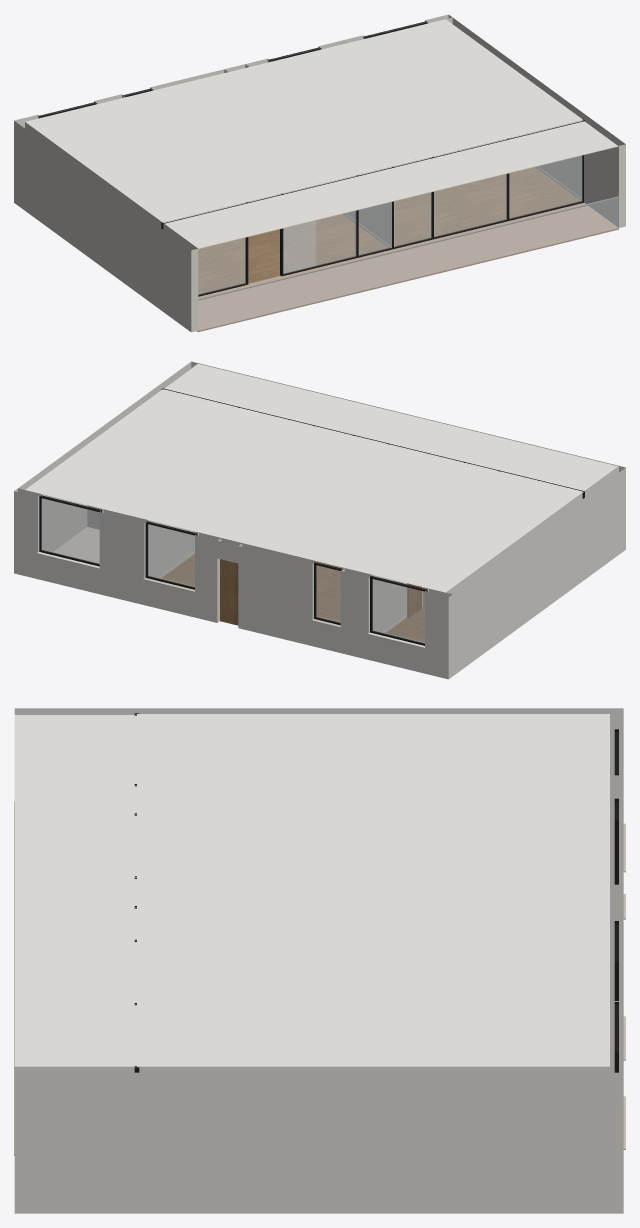
The model's file is apartment.glb.
The picture shows the model from 3 angles, top to bottom: view 1: azimuth 30°, elevation 25°; view 2: azimuth 150°, elevation 25°; view 3: azimuth 270°, elevation 25°; orthographic projection. The views are drawn at different scales.
Visible parts, largest first — view 1: A|living|ceiling_living, A|living|wall_west_0, A|balcony|balcony_soffit_balcony, A|balcony|balcony_deck, A|master|ceiling_master, N|master|facade_glass_facade_1, N|balcony|rail_glass_rail, A|living|floor_living, A|master|floor_master, A|kitchen|ceiling_kitchen, A|bath|ceiling_bath, A|bed3|ceiling_bed3 (+9 smaller); view 2: A|living|ceiling_living, A|living|wall_west_0, A|balcony|balcony_soffit_balcony, A|master|ceiling_master, A|kitchen|ceiling_kitchen, A|bath|ceiling_bath, A|kitchen|wall_back_2, A|bed3|ceiling_bed3, A|bed2|ceiling_bed2, A|bath|wall_back_4, N|bath|win_glass_o5, N|bed3|win_glass_o1 (+22 smaller); view 3: A|master|wall_east_0, A|living|ceiling_living, A|balcony|balcony_soffit_balcony, A|master|ceiling_master, A|bath|ceiling_bath, A|kitchen|ceiling_kitchen, A|bed3|ceiling_bed3, A|bed2|ceiling_bed2, A|corridor|ceiling_corridor, A|living|wall_west_0, A|bath|wall_back_5, A|bath|wall_back_4 (+2 smaller).
Boxes of the visible parts, x1,y1,x2,y2 form: A|living|ceiling_living: [88, 120, 392, 222]; A|living|wall_west_0: [18, 122, 198, 332]; A|balcony|balcony_soffit_balcony: [163, 120, 618, 248]; A|balcony|balcony_deck: [197, 203, 618, 331]; A|master|ceiling_master: [319, 65, 582, 166]; N|master|facade_glass_facade_1: [283, 120, 583, 273]; N|balcony|rail_glass_rail: [198, 198, 618, 330]; A|living|floor_living: [198, 214, 388, 293]; A|master|floor_master: [394, 167, 580, 246]; A|kitchen|ceiling_kitchen: [115, 74, 283, 145]; A|bath|ceiling_bath: [339, 19, 508, 91]; A|bed3|ceiling_bed3: [25, 100, 177, 167]; A|living|ceiling_living: [299, 436, 582, 546]; A|living|wall_west_0: [446, 466, 625, 675]; A|balcony|balcony_soffit_balcony: [164, 363, 618, 491]; A|master|ceiling_master: [88, 389, 352, 490]; A|kitchen|ceiling_kitchen: [249, 498, 418, 570]; A|bath|ceiling_bath: [25, 444, 194, 515]; A|kitchen|wall_back_2: [238, 543, 316, 646]; A|bed3|ceiling_bed3: [356, 524, 508, 592]; A|bed2|ceiling_bed2: [132, 470, 278, 536]; A|bath|wall_back_4: [99, 509, 148, 604]; N|bath|win_glass_o5: [41, 496, 100, 564]; N|bed3|win_glass_o1: [371, 576, 424, 643]; A|master|wall_east_0: [14, 1066, 609, 1213]; A|living|ceiling_living: [137, 714, 392, 906]; A|balcony|balcony_soffit_balcony: [14, 714, 136, 1066]; A|master|ceiling_master: [137, 907, 392, 1066]; A|bath|ceiling_bath: [393, 977, 609, 1066]; A|kitchen|ceiling_kitchen: [393, 789, 609, 878]; A|bed3|ceiling_bed3: [393, 714, 609, 789]; A|bed2|ceiling_bed2: [393, 907, 609, 977]; A|corridor|ceiling_corridor: [326, 878, 609, 906]; A|living|wall_west_0: [14, 708, 609, 713]; A|bath|wall_back_5: [610, 1052, 623, 1213]; A|bath|wall_back_4: [610, 963, 623, 1052].
Bounding box in the file's own units: 15.5 × 2.85 × 11.
Materials: 42 (8 with a texture image).
